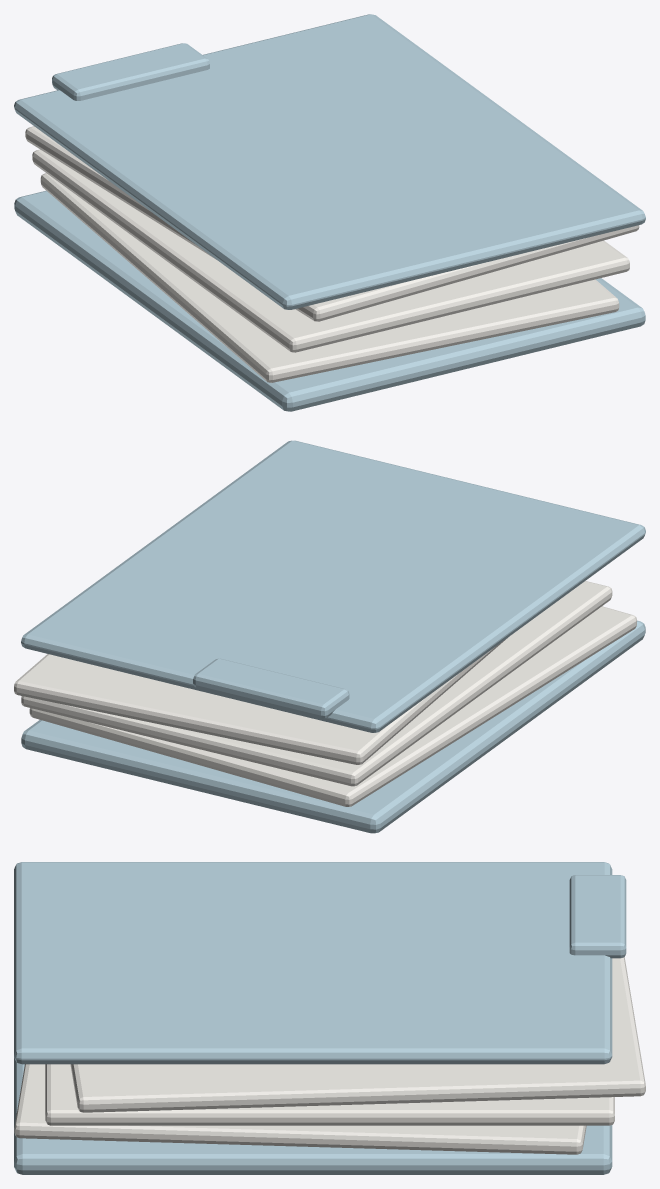
File: papers.glb
3 renders of one model, top to bottom at view 1: azimuth 30°, elevation 25°; view 2: azimuth 150°, elevation 25°; view 3: azimuth 270°, elevation 25°, orthographic. The views are drawn at different scales.
Parts seen in each view (by area): view 1: Papers; view 2: Papers; view 3: Papers.
Boxes of the visible parts, bbox=[...] form: Papers: bbox=[14, 14, 645, 411]; Papers: bbox=[14, 440, 645, 833]; Papers: bbox=[14, 862, 645, 1174].
Bounding box in the file's own units: 0.1713 × 0.053 × 0.2218.
